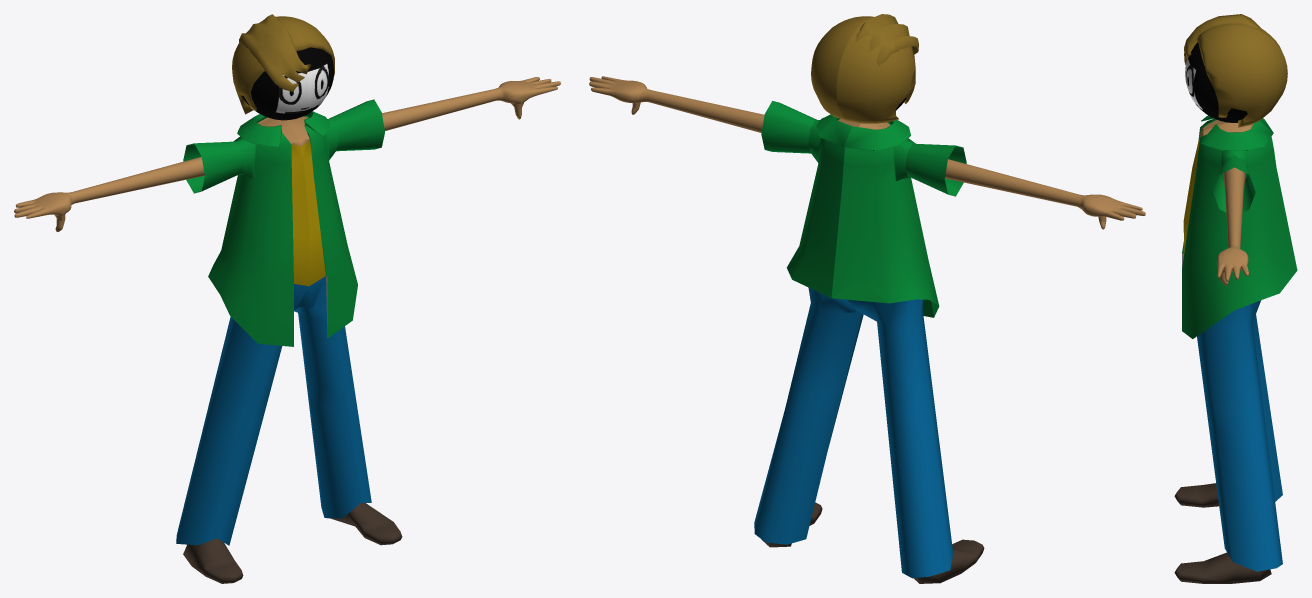
File: PFM_Boy_Rig_005.fbx
3 renders of one model, left to right at view 1: azimuth 30°, elevation 25°; view 2: azimuth 150°, elevation 25°; view 3: azimuth 270°, elevation 25°, orthographic. The views are drawn at different scales.
Visible parts, largest first — view 1: polySurface12, polySurface11, curls, polySurface13; view 2: polySurface12, polySurface13, curls; view 3: polySurface12, polySurface13, polySurface11, curls.
Boxes of the visible parts, left/top/right/bottom form: polySurface12: left=14, top=77, right=560, bottom=583; polySurface11: left=241, top=47, right=333, bottom=120; curls: left=239, top=14, right=310, bottom=91; polySurface13: left=232, top=16, right=334, bottom=114; polySurface12: left=589, top=76, right=1145, bottom=583; polySurface13: left=811, top=16, right=915, bottom=123; curls: left=855, top=14, right=918, bottom=65; polySurface12: left=1174, top=115, right=1297, bottom=583; polySurface13: left=1196, top=23, right=1287, bottom=127; polySurface11: left=1185, top=42, right=1247, bottom=122; curls: left=1184, top=14, right=1262, bottom=64.
Bounding box in the file's own units: 5.02 × 4.63 × 0.9937.
9 materials, 1 textured.
